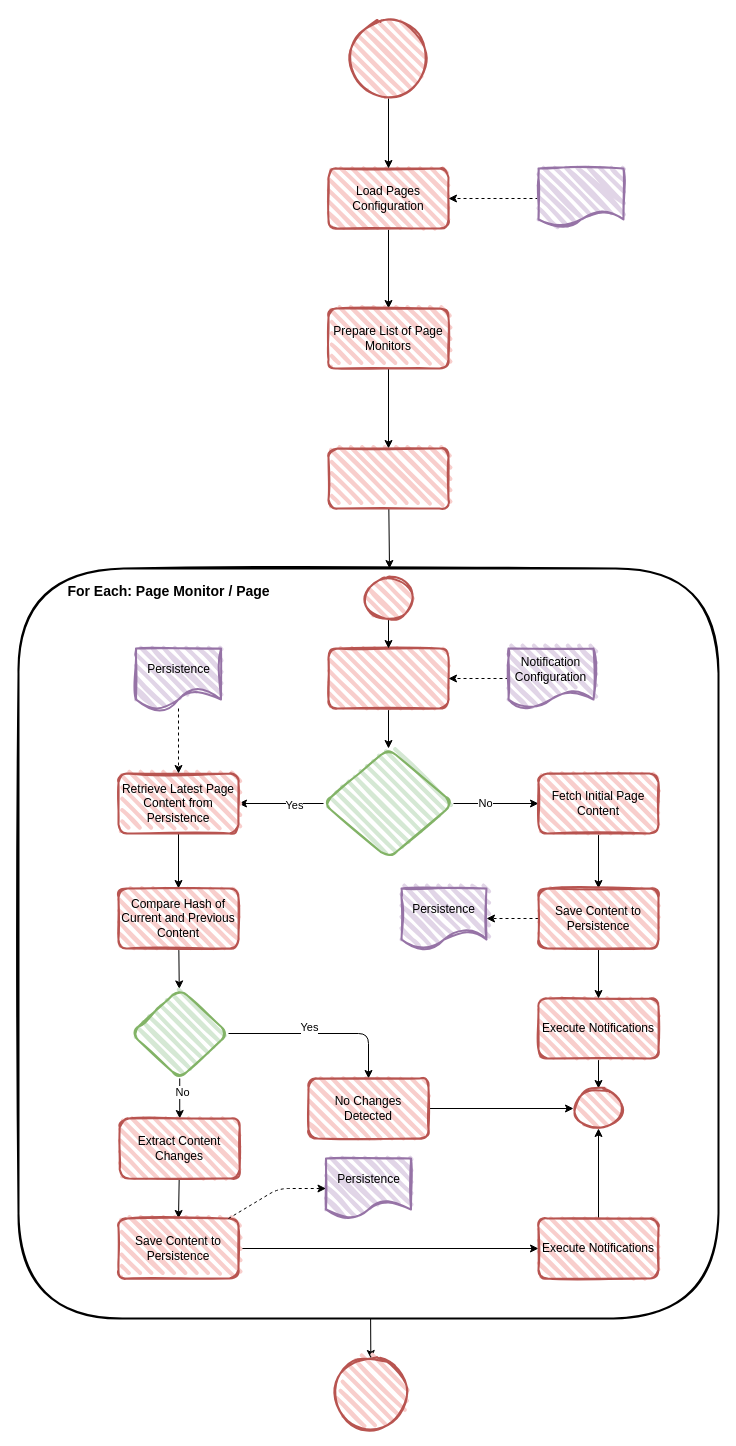
This 736x1446 diagram has some shape labels left out. The centre of each missing label's shape, as x and y in pixels:
Are Hashes the same?: (179,1033)
Connect to Persistence Engine: (388,478)
Finish: (370,1393)
Get Notifications Setup: (388,678)
Initiate Fetching: (388,58)
Is Page Content Stored in Persistence?: (388,803)
YAML Pages Configuration File: (580,198)
